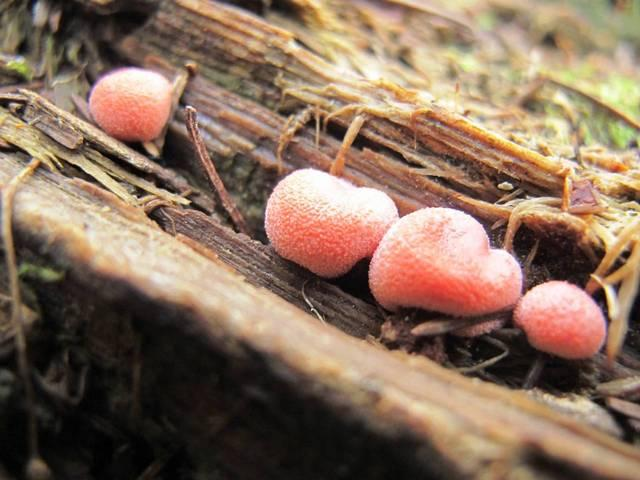Non-edible Mushroom: (367, 205, 523, 319), (262, 166, 399, 278), (86, 64, 189, 157), (512, 278, 607, 361)
